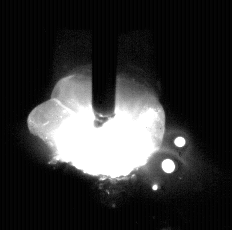arame: (93, 0, 117, 127)
poca: (27, 0, 166, 230)
